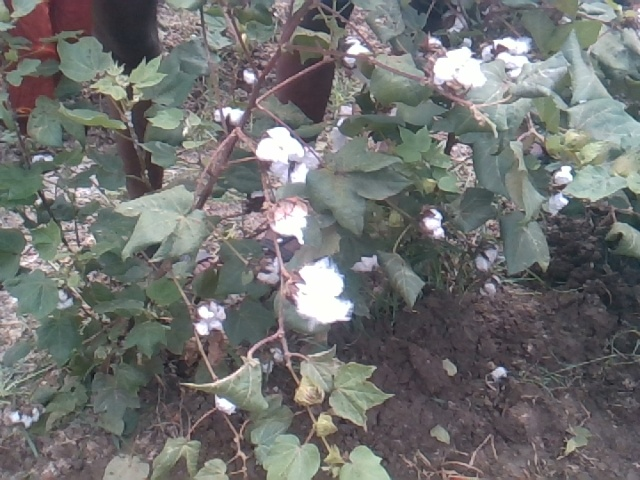cotton: (289, 259, 355, 325), (435, 46, 488, 89), (256, 126, 305, 170), (263, 202, 311, 243), (193, 298, 229, 335), (493, 38, 530, 74), (420, 206, 453, 241), (472, 239, 502, 273), (252, 256, 286, 284), (212, 391, 244, 417), (543, 191, 571, 219), (553, 164, 579, 186)
